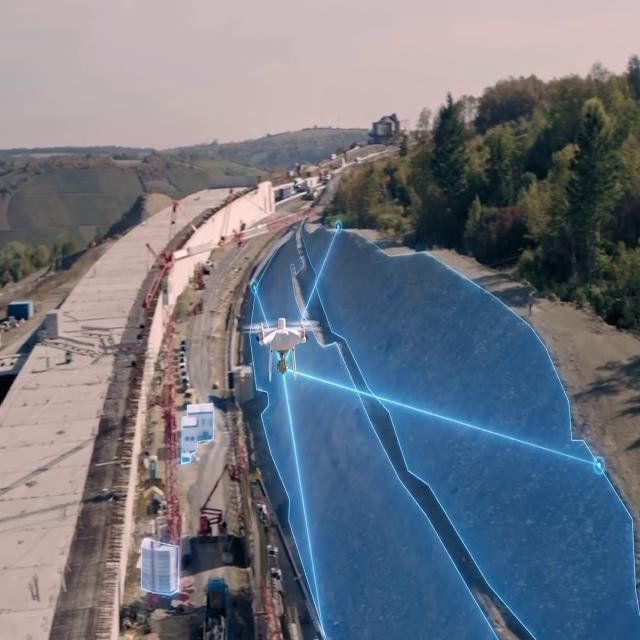drone: (244, 312, 322, 383)
